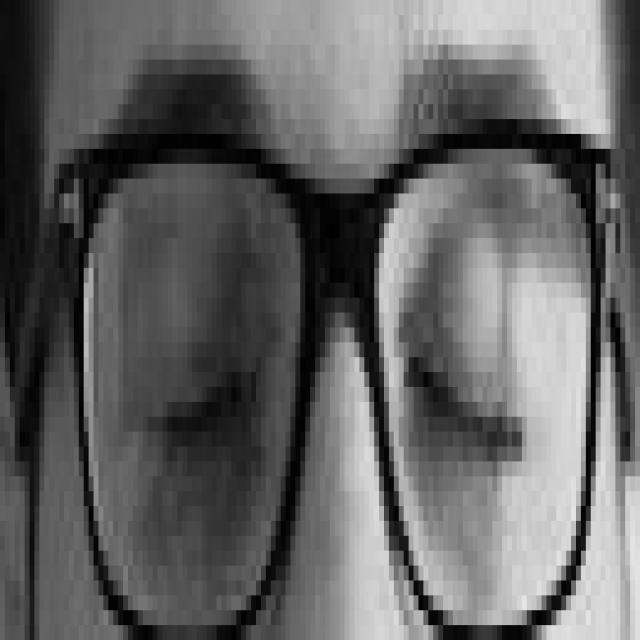real: (98, 142, 574, 575)
